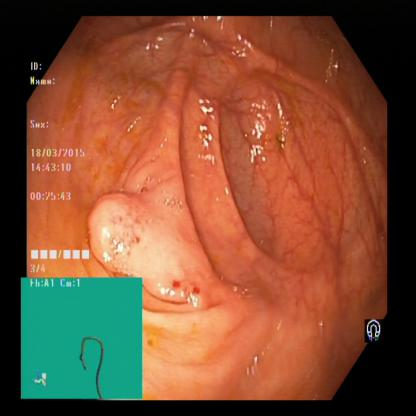Labels: (21, 276, 144, 398), (26, 57, 88, 278), (363, 315, 390, 351)
Polyps: (93, 193, 222, 276)
